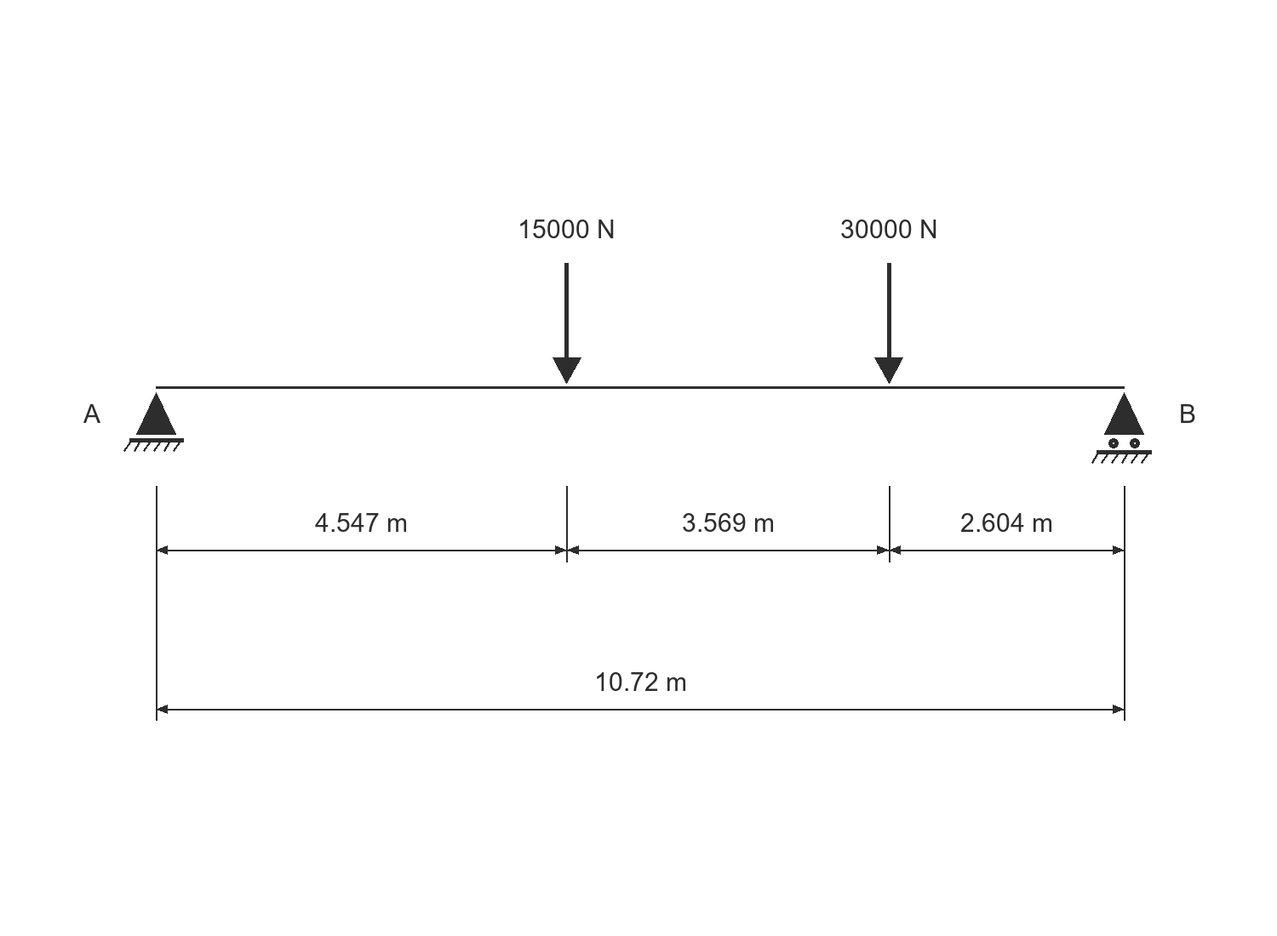pin_support: (123, 392, 184, 452)
point_load: (874, 263, 903, 384), (553, 263, 581, 384)
roller_support: (1091, 392, 1152, 464)
